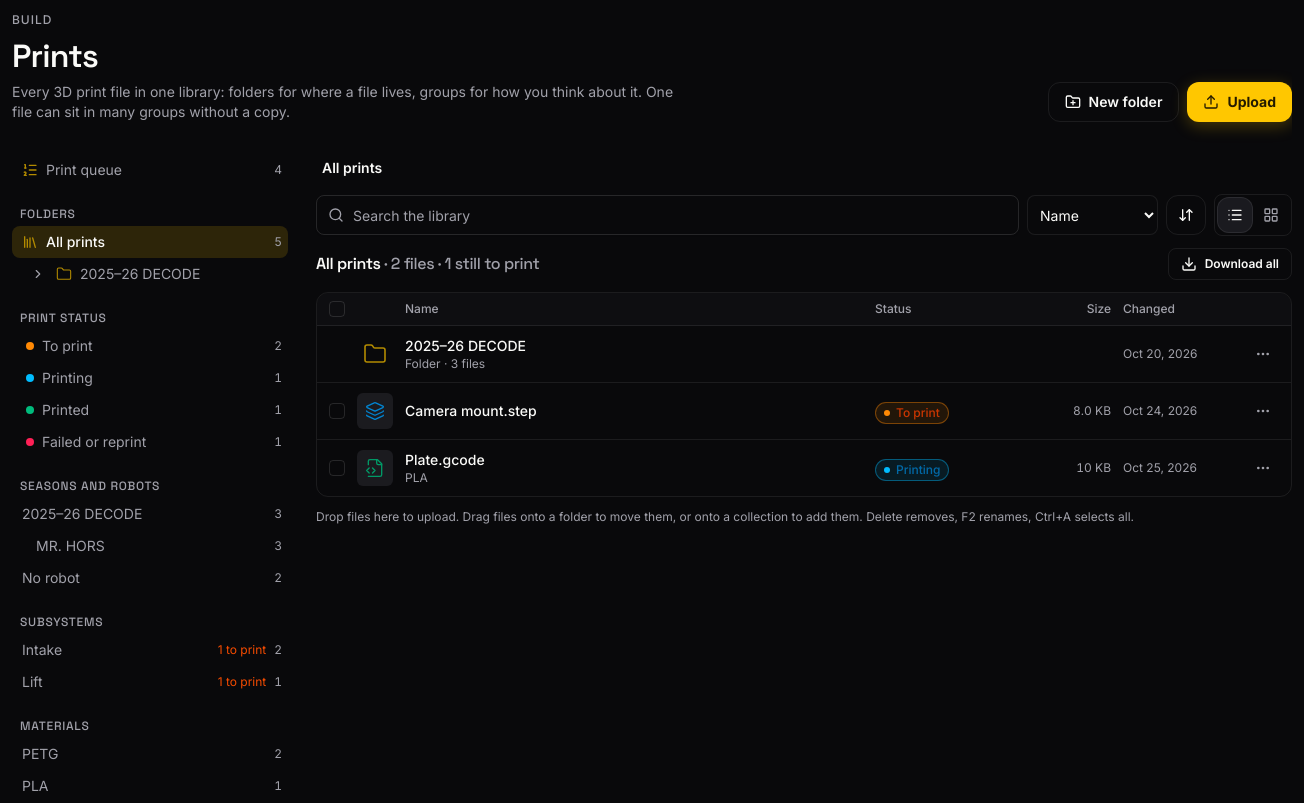
Scenario: Prints explorer › opens on the top level: folders, loose files, the path and the counts
Expected: the heading "All prints · 2 files · 1 still to print" is shown, [316, 252, 539, 276]
Expected: the button "Camera mount.step" is shown, [405, 389, 863, 433]
Click the button "2025–26 DECODE Folder · 3 files".
click(466, 346)  # box [405, 332, 863, 376]
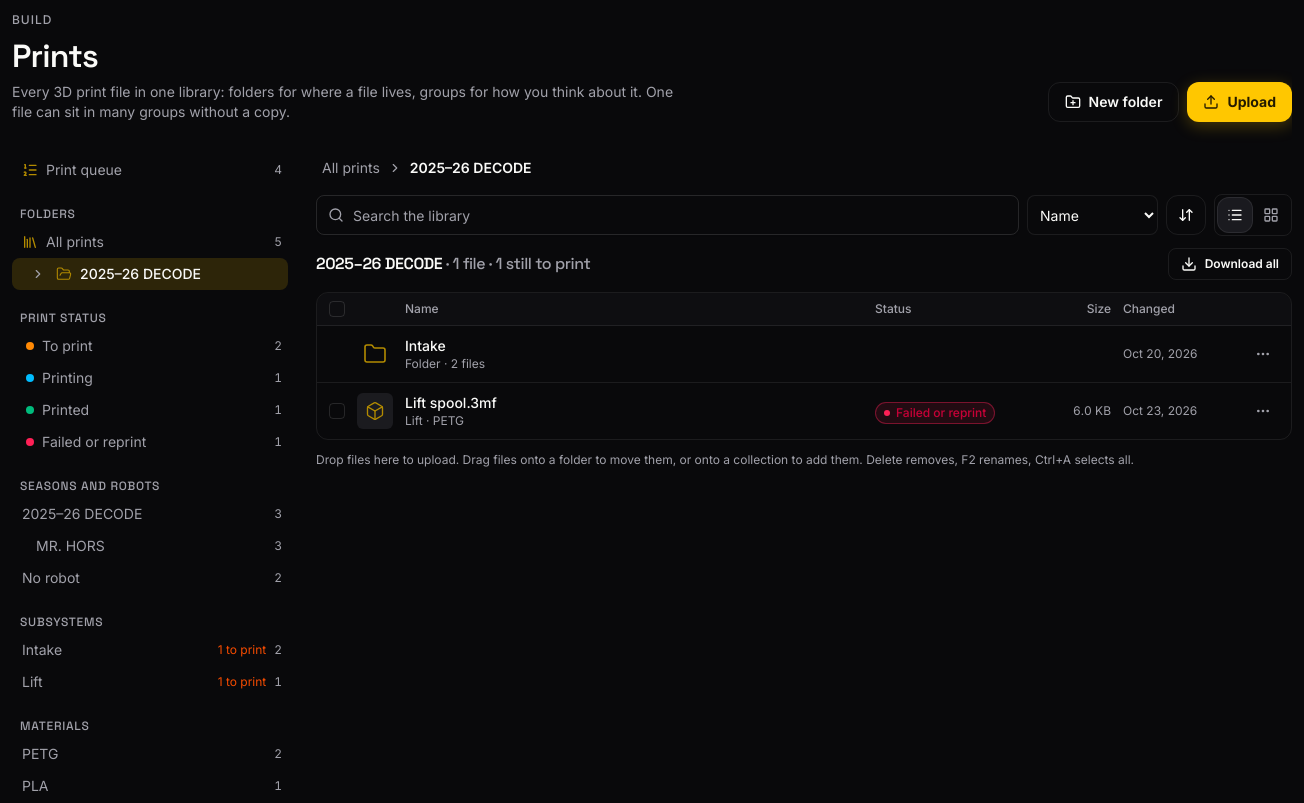
Result: the heading "2025–26 DECODE · 1 file · 1 still to print" is shown at [316, 252, 590, 276]
